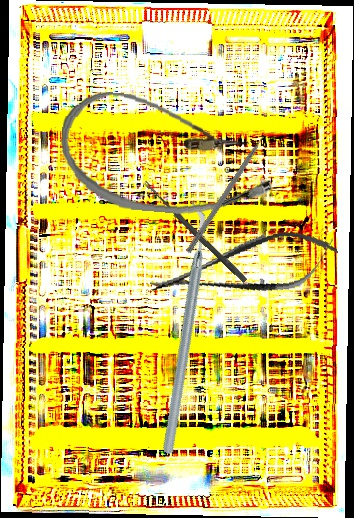Cannula: (55, 88, 280, 222)
Chopper: (71, 199, 294, 457), (185, 125, 279, 258)
Micro Scissor: (145, 221, 343, 314)
Surgical Spoon: (141, 179, 249, 284)
